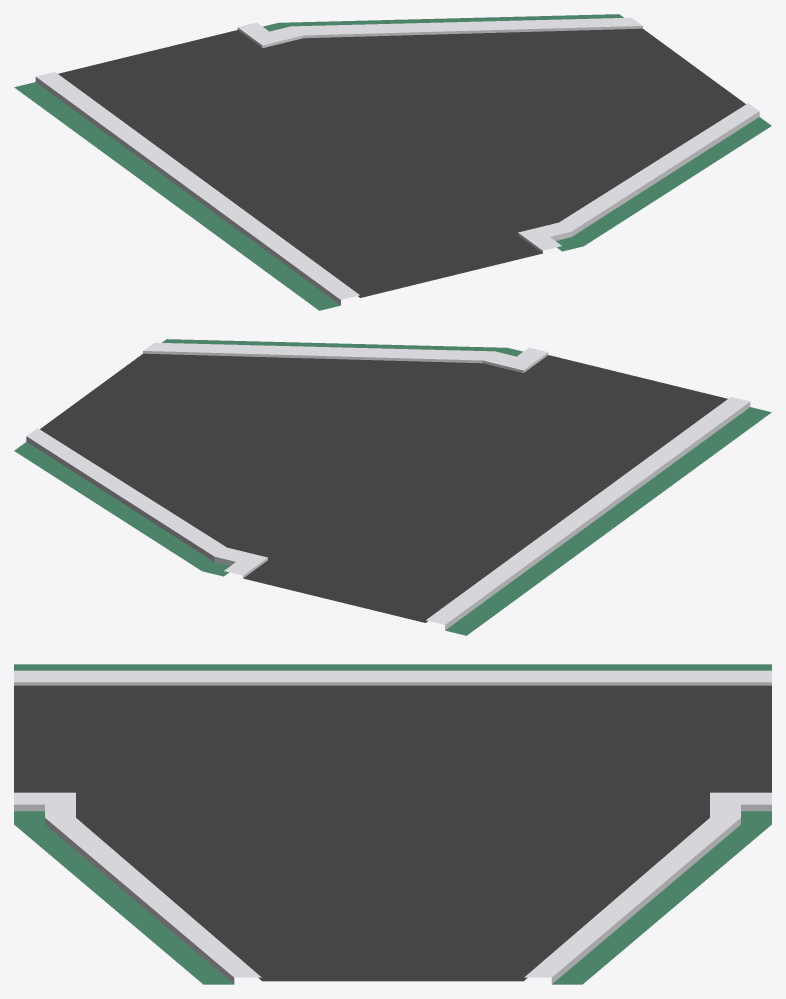
File: roadSide.glb
3 views of the same model, one above another, from view 1: azimuth 30°, elevation 25°; view 2: azimuth 150°, elevation 25°; view 3: azimuth 270°, elevation 25° (orthographic). The views are drawn at different scales.
Visible parts, largest first — view 1: roadSide(Clone); view 2: roadSide(Clone); view 3: roadSide(Clone).
Boxes of the visible parts, box(x1,y1,x2,y2) form: roadSide(Clone): box(14, 14, 771, 310); roadSide(Clone): box(14, 339, 771, 635); roadSide(Clone): box(14, 664, 771, 984).
Bounding box in the file's own units: 2 × 0.02 × 2.
